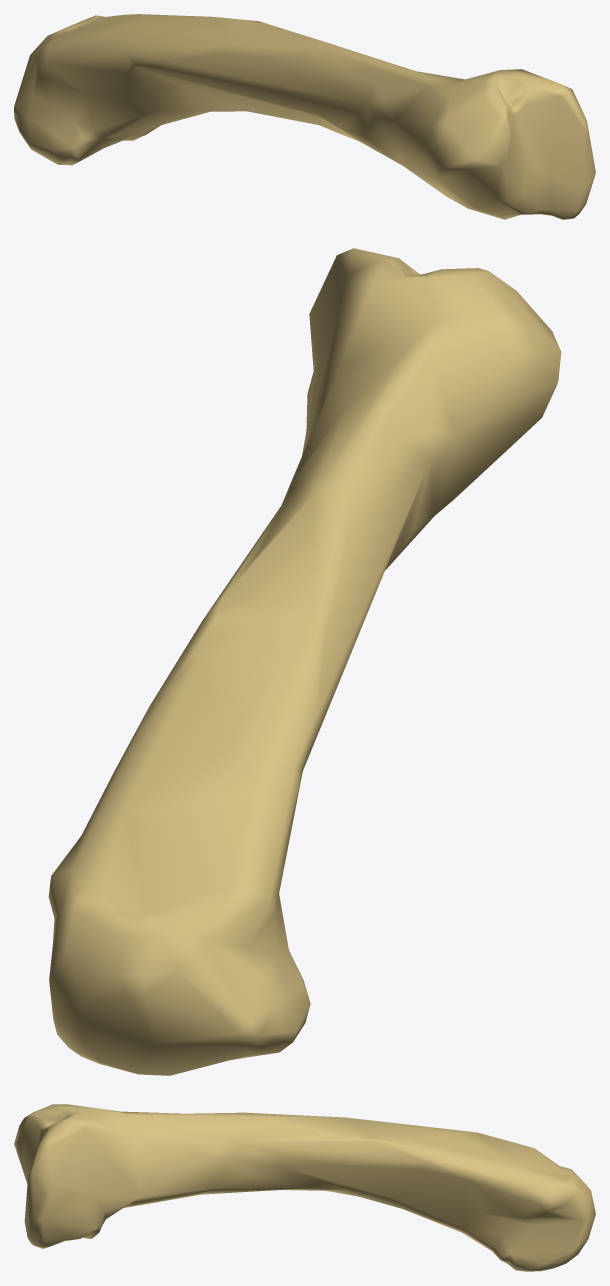
The picture shows the model from 3 angles, top to bottom: view 1: azimuth 30°, elevation 25°; view 2: azimuth 150°, elevation 25°; view 3: azimuth 270°, elevation 25°; orthographic projection. The views are drawn at different scales.
Parts seen in each view (by area): view 1: 右侧第二掌骨; view 2: 右侧第二掌骨; view 3: 右侧第二掌骨.
Boxes of the visible parts, x1,y1,x2,y2 form: 右侧第二掌骨: (14, 14, 595, 219); 右侧第二掌骨: (48, 248, 561, 1075); 右侧第二掌骨: (14, 1104, 595, 1271).
Bounding box in the file's own units: 0.0473 × 0.0393 × 0.1039.
